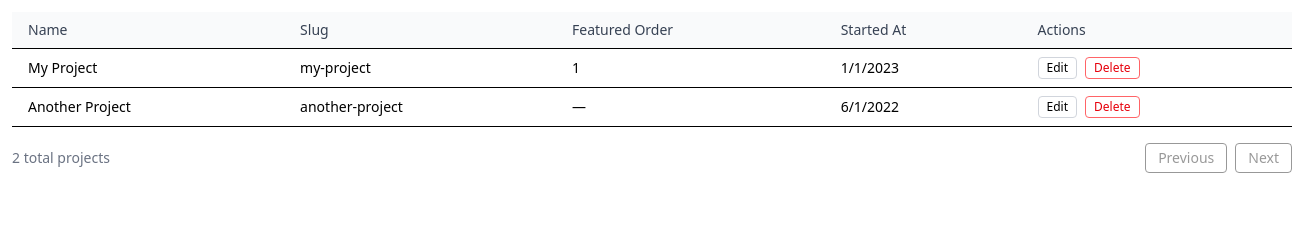
Test case: ProjectsTable › surfaces delete mutation errors on a non-2xx response
Click the button "Delete" in the row of "My Project": (1112, 68) 1085,57 -> 1140,79
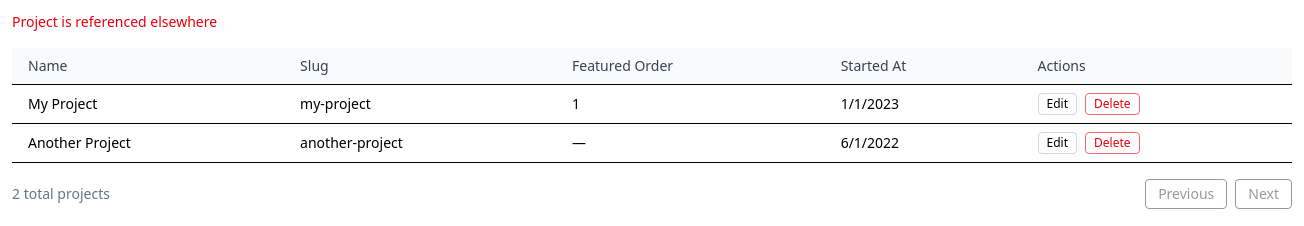
Result: the message reads "Project is referenced elsewhere" at 12,12 -> 217,31
